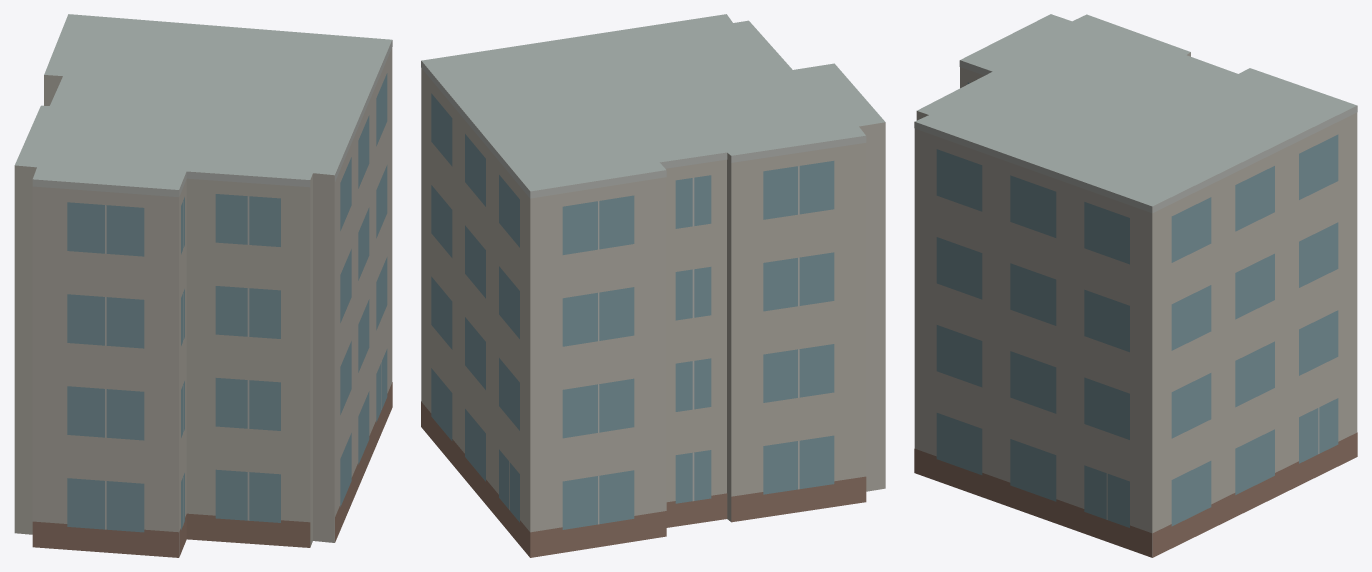
The model's file is survey-upis-32477000.glb.
The picture shows the model from 3 angles, left to right: view 1: azimuth 30°, elevation 25°; view 2: azimuth 150°, elevation 25°; view 3: azimuth 270°, elevation 25°; orthographic projection. The views are drawn at different scales.
Visible parts, largest first — view 1: survey-upis-32477000.tmp; view 2: survey-upis-32477000.tmp; view 3: survey-upis-32477000.tmp.
Part boxes in pixels (x1,y1,x2,y2): survey-upis-32477000.tmp: [14, 14, 392, 557]; survey-upis-32477000.tmp: [421, 14, 885, 557]; survey-upis-32477000.tmp: [914, 14, 1357, 557].
Size of the model in its own units: 14.75 by 12.55 by 14.34.
